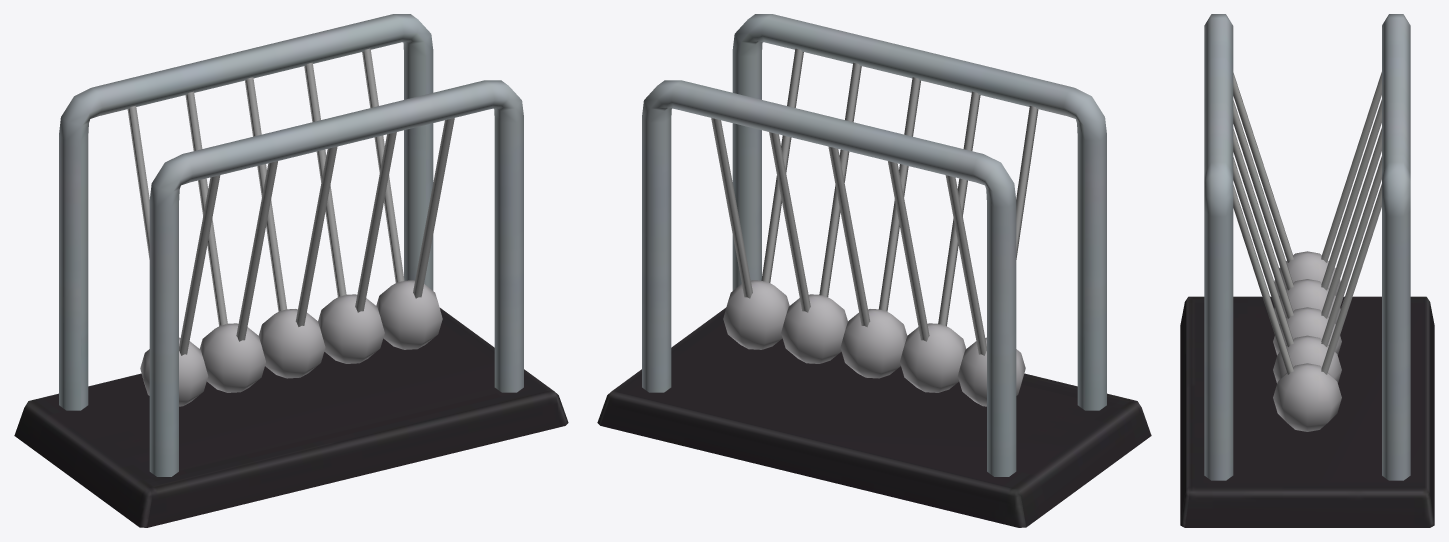
3 renders of one model, left to right at view 1: azimuth 30°, elevation 25°; view 2: azimuth 150°, elevation 25°; view 3: azimuth 270°, elevation 25°, orthographic. The views are drawn at different scales.
Size of the model in its own units: 5.78 by 4.41 by 3.03.
Materials: 1 (1 with a texture image).
